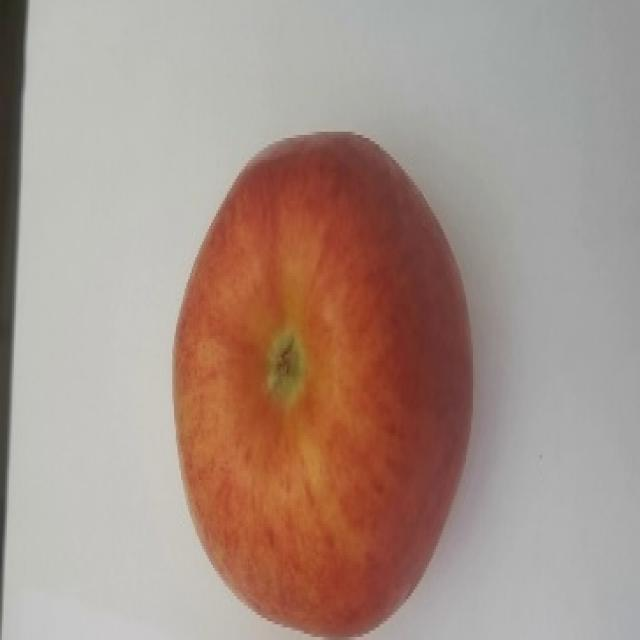Apple: (171, 129, 474, 638)
